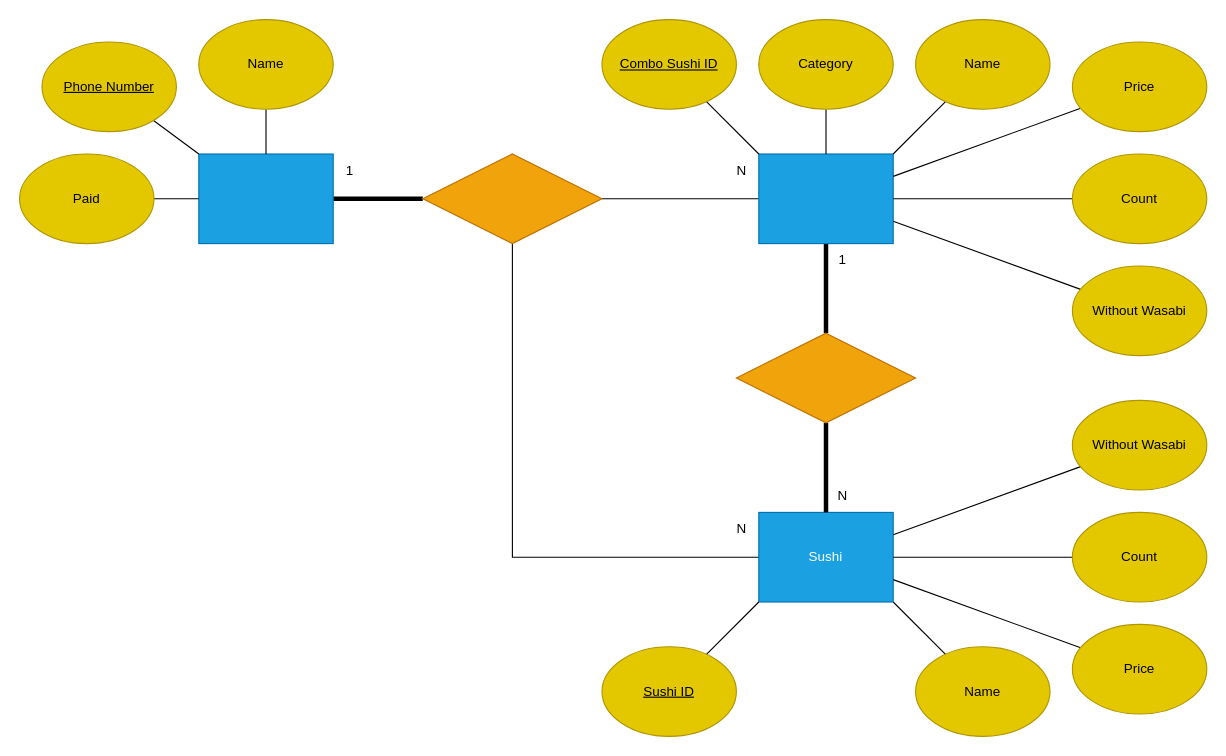
Some shapes in this 1226 by 756 pixel diagram are drawn without their labels. Each missing label, with the centre of its shape:
Combo Sushi: the point at 825,198
Contains: the point at 825,377
Orderer: the point at 265,198
Orders: the point at 512,198
